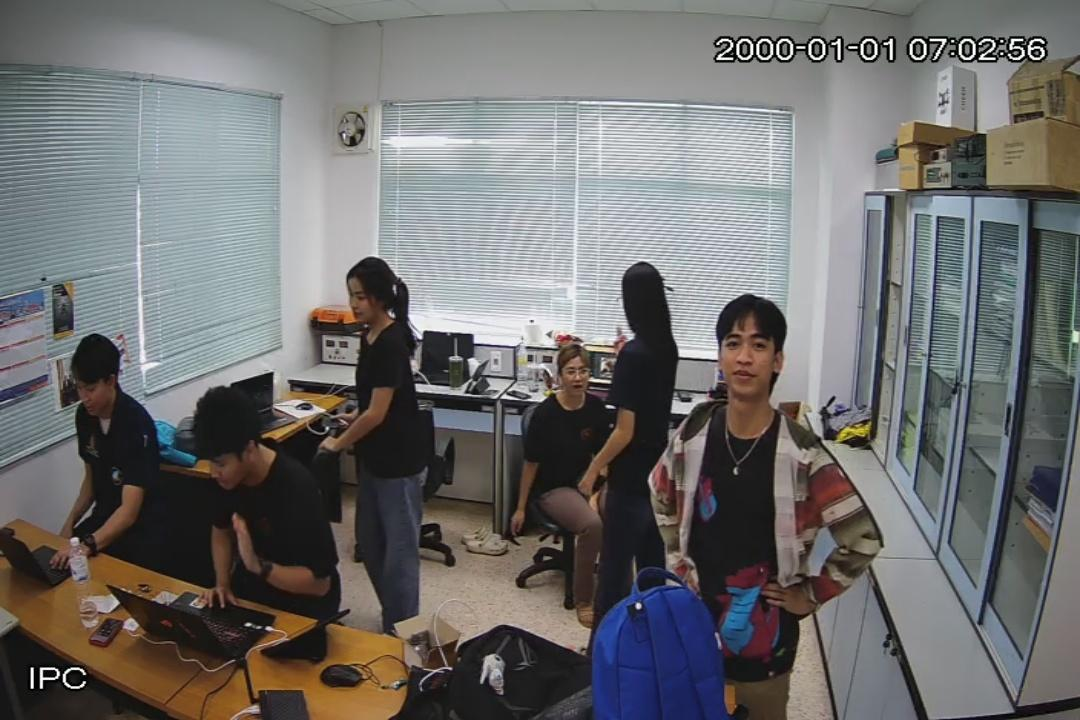normal: (660, 298, 886, 720), (185, 384, 339, 641), (577, 264, 682, 603), (336, 257, 425, 654), (47, 333, 178, 577), (511, 346, 613, 628)
